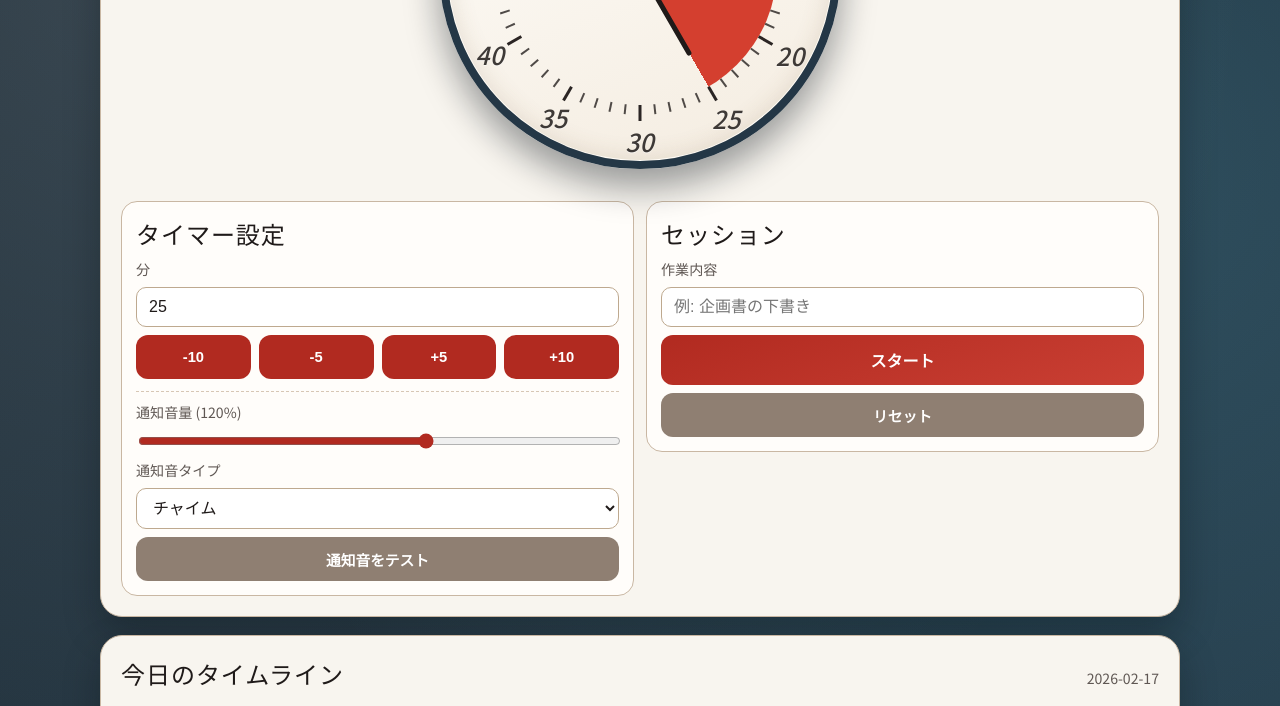
Test: App › toggles main controls across start pause and resume states
(page scrolled)
Check: the button "一時停止" is not shown
Check: the button "再開" is not shown
Click the button named "タイマー開始": [902, 360] box [661,335,1144,385]
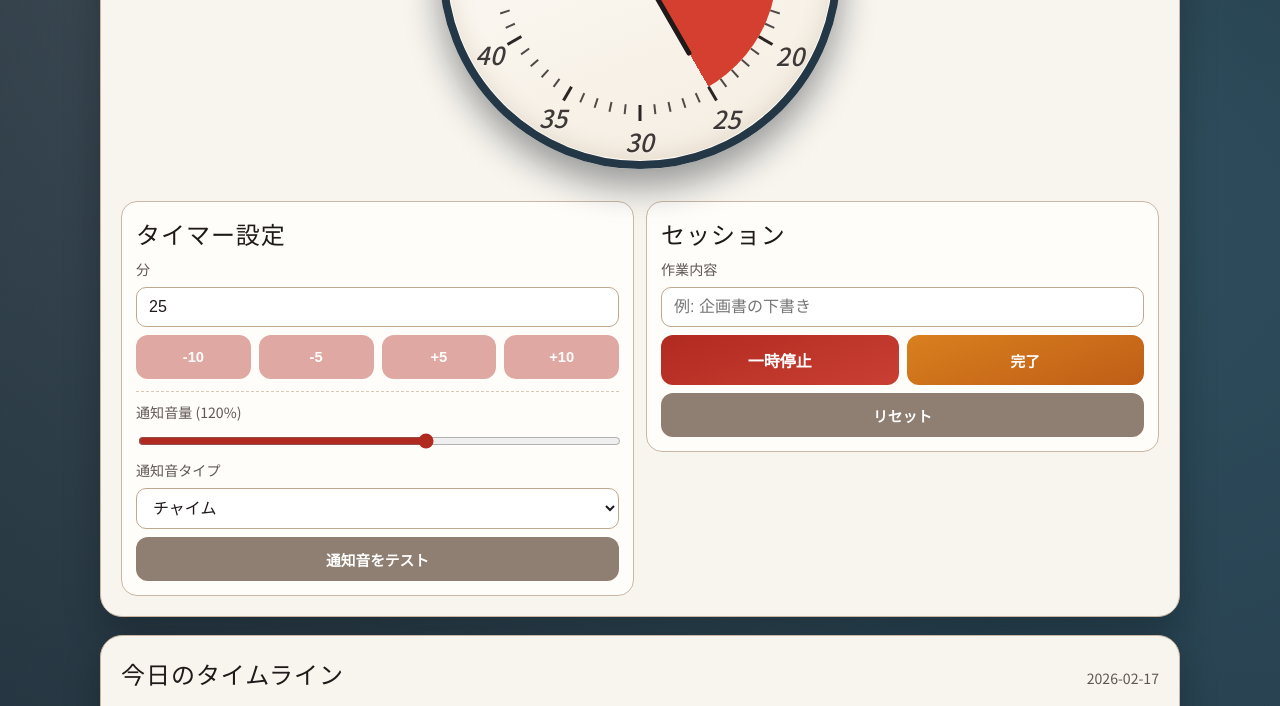
Check: the button "再開" is not shown
Check: the button "一時停止" is shown
Click the button "一時停止": [780, 360] box [661,335,898,385]
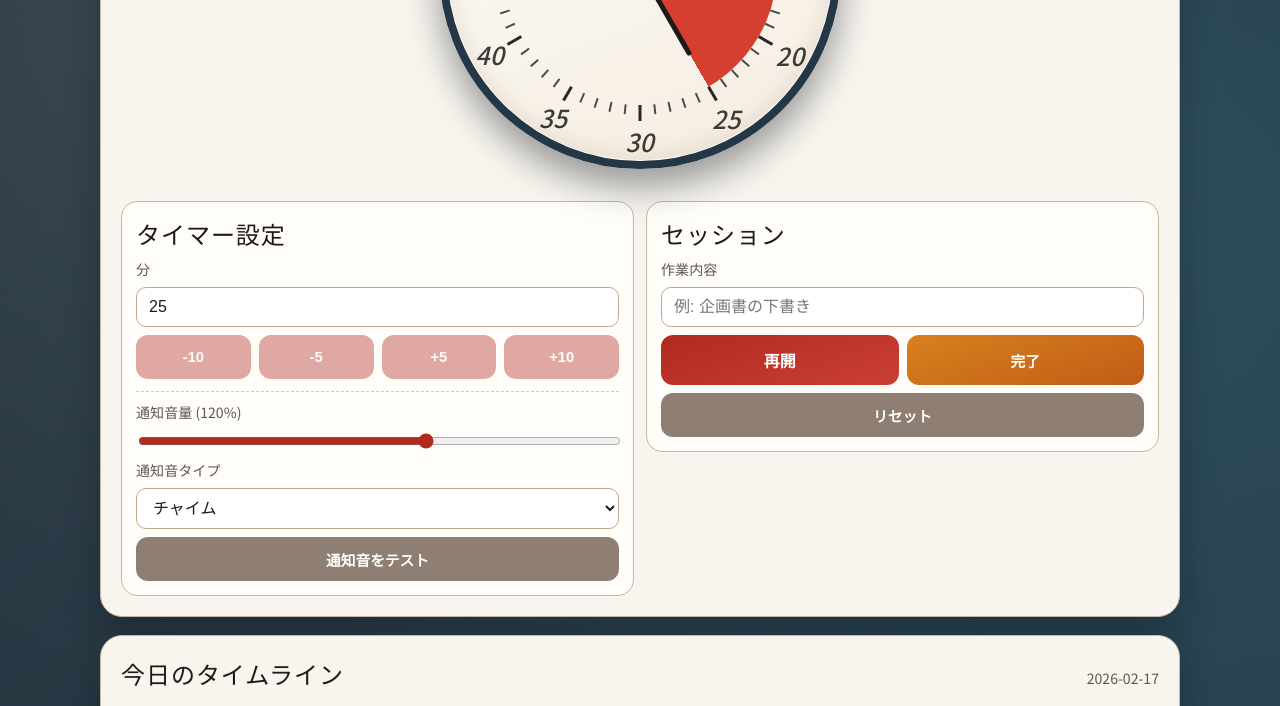
Check: the button "一時停止" is gone
Check: the button "再開" is shown
Click the button "再開": [780, 360] box [661,335,898,385]
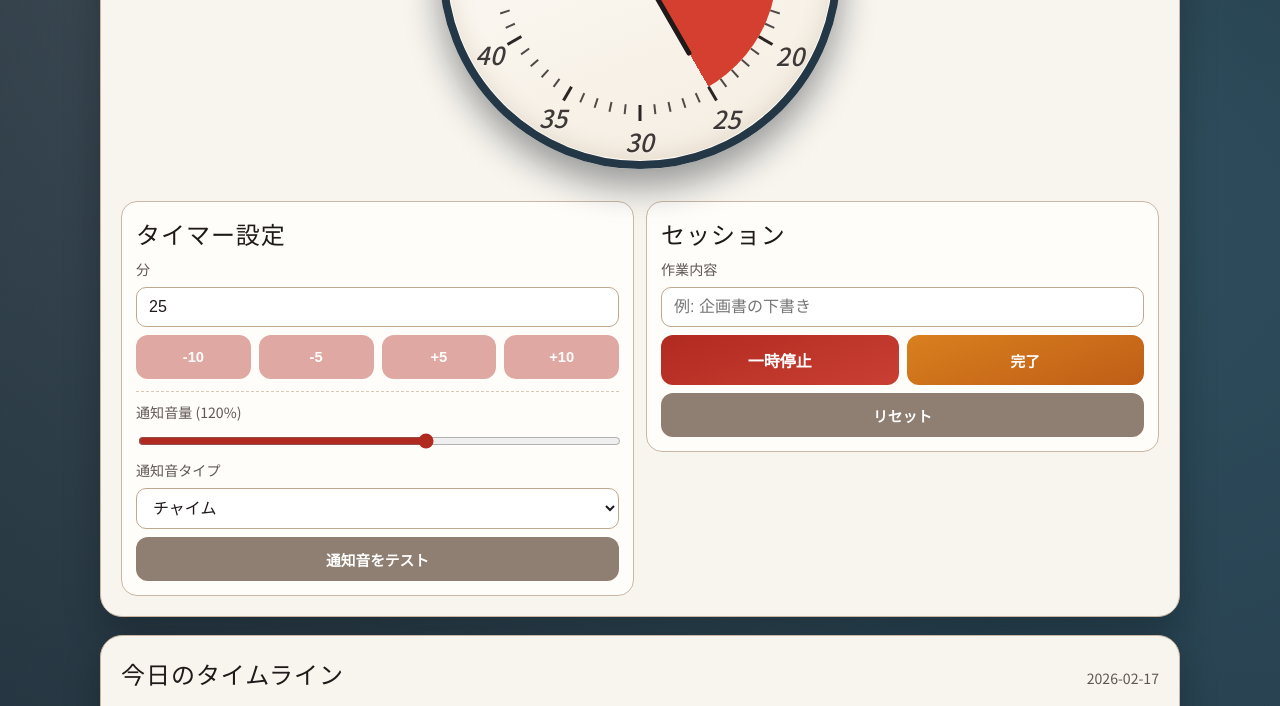
Check: the button "一時停止" is shown, box [661,335,898,385]
Check: the button "再開" is gone
